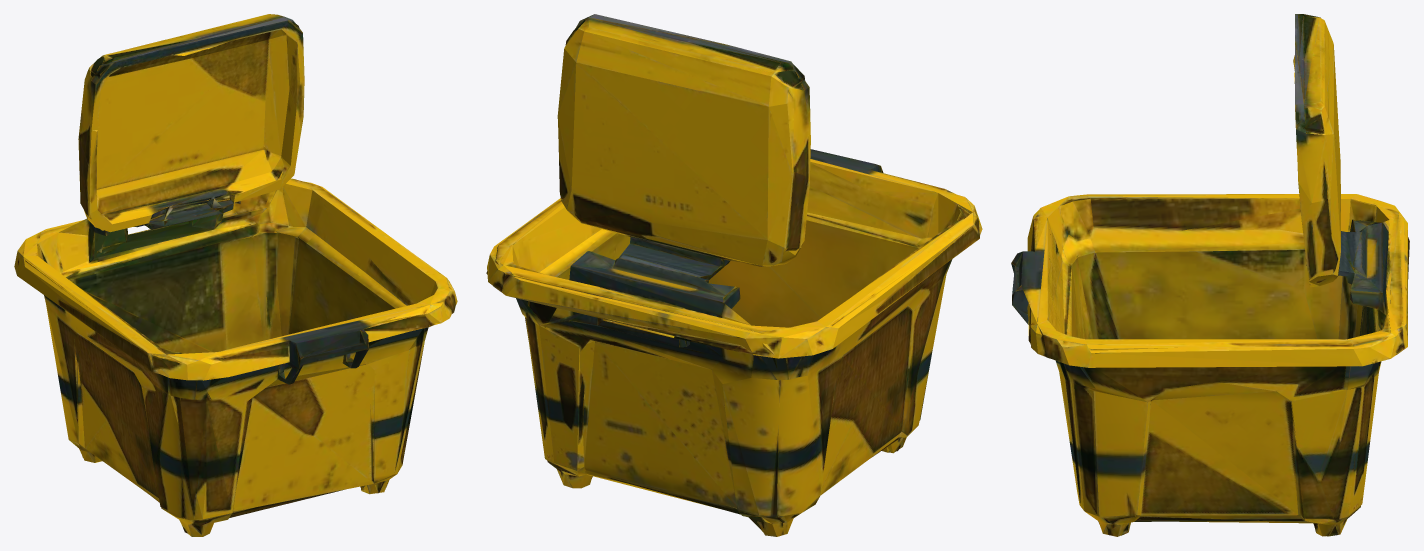
The model's file is grit_box.glb.
3 views of the same model, side by side, from view 1: azimuth 30°, elevation 25°; view 2: azimuth 150°, elevation 25°; view 3: azimuth 270°, elevation 25° (orthographic). The views are drawn at different scales.
Size of the model in its own units: 1.5 by 1.9 by 1.6.
1 material, 1 textured.
